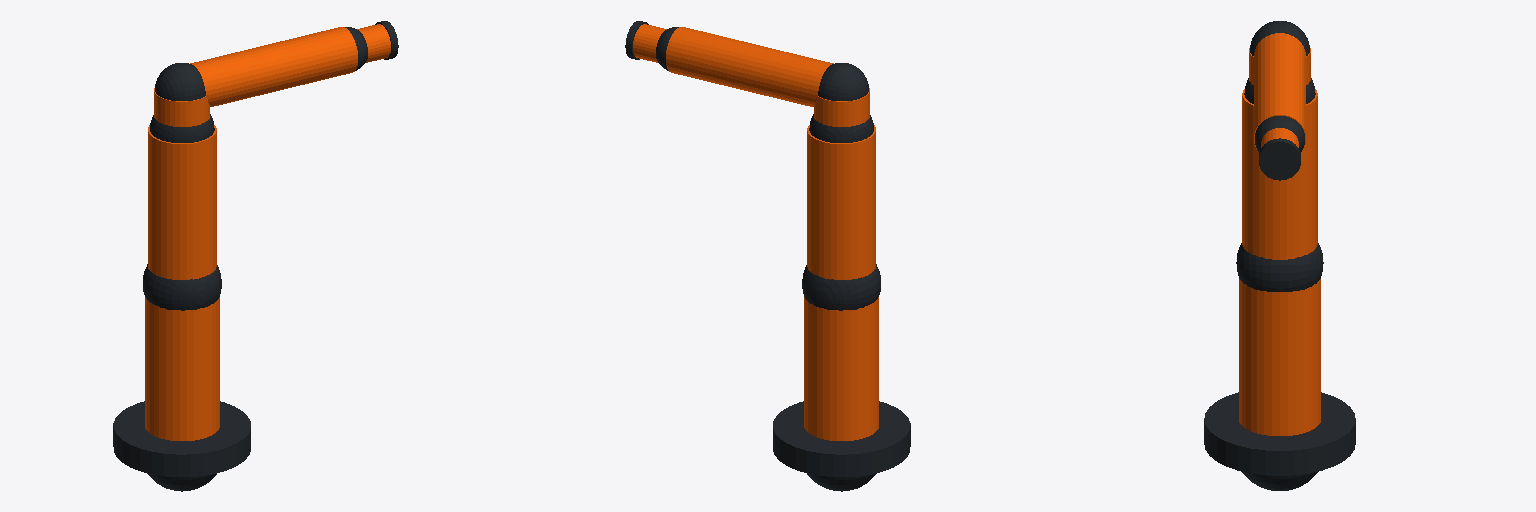
robot.urdf — irb120:
<?xml version="1.0"?>
<!-- Generado por scripts/add_visuals.py  NO EDITAR A MANO -->
<!-- Geometria por primitivas dimensionadas desde la tabla D-H -->
<!-- Grupo VEVAS -->
<robot name="irb120">

  <link name="base_link">
    <visual>
      <origin xyz="0 0 0.02" rpy="0 0 0"/>
      <geometry>
        <cylinder length="0.04" radius="0.11"/>
      </geometry>
      <material name="base_gris">
        <color rgba="0.18 0.20 0.22 1.0"/>
      </material>
    </visual>
  </link>
  <link name="link_1">
    <visual>
      <origin xyz="0 0 0.145000" rpy="0 0 0"/>
      <geometry>
        <cylinder length="0.290000" radius="0.0600"/>
      </geometry>
      <material name="cuerpo">
        <color rgba="0.95 0.42 0.07 1.0"/>
      </material>
    </visual>
    <collision>
      <origin xyz="0 0 0.145000" rpy="0 0 0"/>
      <geometry>
        <cylinder length="0.290000" radius="0.0570"/>
      </geometry>
    </collision>
    <visual>
      <origin xyz="0 0 0" rpy="0 0 0"/>
      <geometry>
        <sphere radius="0.0690"/>
      </geometry>
      <material name="junta">
        <color rgba="0.18 0.20 0.22 1.0"/>
      </material>
    </visual>
  </link>
  <link name="link_2">
    <visual>
      <origin xyz="0.135000 0 0" rpy="0 1.5707963 0"/>
      <geometry>
        <cylinder length="0.270000" radius="0.0550"/>
      </geometry>
      <material name="cuerpo">
        <color rgba="0.95 0.42 0.07 1.0"/>
      </material>
    </visual>
    <collision>
      <origin xyz="0.135000 0 0" rpy="0 1.5707963 0"/>
      <geometry>
        <cylinder length="0.270000" radius="0.0522"/>
      </geometry>
    </collision>
    <visual>
      <origin xyz="0 0 0" rpy="0 0 0"/>
      <geometry>
        <sphere radius="0.0633"/>
      </geometry>
      <material name="junta">
        <color rgba="0.18 0.20 0.22 1.0"/>
      </material>
    </visual>
  </link>
  <link name="link_3">
    <visual>
      <origin xyz="0.035000 0 0" rpy="0 1.5707963 0"/>
      <geometry>
        <cylinder length="0.070000" radius="0.0450"/>
      </geometry>
      <material name="cuerpo">
        <color rgba="0.95 0.42 0.07 1.0"/>
      </material>
    </visual>
    <collision>
      <origin xyz="0.035000 0 0" rpy="0 1.5707963 0"/>
      <geometry>
        <cylinder length="0.070000" radius="0.0427"/>
      </geometry>
    </collision>
    <visual>
      <origin xyz="0 0 0" rpy="0 0 0"/>
      <geometry>
        <sphere radius="0.0517"/>
      </geometry>
      <material name="junta">
        <color rgba="0.18 0.20 0.22 1.0"/>
      </material>
    </visual>
  </link>
  <link name="link_4">
    <visual>
      <origin xyz="0 0 0.151000" rpy="0 0 0"/>
      <geometry>
        <cylinder length="0.302000" radius="0.0380"/>
      </geometry>
      <material name="cuerpo">
        <color rgba="0.95 0.42 0.07 1.0"/>
      </material>
    </visual>
    <collision>
      <origin xyz="0 0 0.151000" rpy="0 0 0"/>
      <geometry>
        <cylinder length="0.302000" radius="0.0361"/>
      </geometry>
    </collision>
    <visual>
      <origin xyz="0 0 0" rpy="0 0 0"/>
      <geometry>
        <sphere radius="0.0437"/>
      </geometry>
      <material name="junta">
        <color rgba="0.18 0.20 0.22 1.0"/>
      </material>
    </visual>
  </link>
  <link name="link_5">
    <visual>
      <origin xyz="0 0 0" rpy="0 0 0"/>
      <geometry>
        <sphere radius="0.0368"/>
      </geometry>
      <material name="junta">
        <color rgba="0.18 0.20 0.22 1.0"/>
      </material>
    </visual>
  </link>
  <link name="link_6">
    <visual>
      <origin xyz="0 0 0.036000" rpy="0 0 0"/>
      <geometry>
        <cylinder length="0.072000" radius="0.0280"/>
      </geometry>
      <material name="cuerpo">
        <color rgba="0.95 0.42 0.07 1.0"/>
      </material>
    </visual>
    <collision>
      <origin xyz="0 0 0.036000" rpy="0 0 0"/>
      <geometry>
        <cylinder length="0.072000" radius="0.0266"/>
      </geometry>
    </collision>
    <visual>
      <origin xyz="0 0 0" rpy="0 0 0"/>
      <geometry>
        <sphere radius="0.0322"/>
      </geometry>
      <material name="junta">
        <color rgba="0.18 0.20 0.22 1.0"/>
      </material>
    </visual>
  </link>
  <link name="tool0">
    <visual>
      <origin xyz="0 0 0" rpy="0 0 0"/>
      <geometry>
        <cylinder length="0.012" radius="0.031"/>
      </geometry>
      <material name="brida">
        <color rgba="0.18 0.20 0.22 1.0"/>
      </material>
    </visual>
  </link>

  <joint name="joint_1" type="revolute">
    <parent link="base_link"/>
    <child  link="link_1"/>
    <origin xyz="0 0 0" rpy="0 0 0"/>
    <axis xyz="0 0 1"/>
    <limit lower="-2.879793" upper="2.879793" effort="42.0" velocity="4.36"/>
  </joint>

  <joint name="joint_2" type="revolute">
    <parent link="link_1"/>
    <child  link="link_2"/>
    <origin xyz="0 0 0.29" rpy="-1.570796327 -1.570796327 0"/>
    <axis xyz="0 0 1"/>
    <limit lower="-1.919862" upper="1.919862" effort="42.0" velocity="4.36"/>
  </joint>

  <joint name="joint_3" type="revolute">
    <parent link="link_2"/>
    <child  link="link_3"/>
    <origin xyz="0.27 0 0" rpy="0 0 0"/>
    <axis xyz="0 0 1"/>
    <limit lower="-1.919862" upper="1.22173" effort="22.0" velocity="5.24"/>
  </joint>

  <joint name="joint_4" type="revolute">
    <parent link="link_3"/>
    <child  link="link_4"/>
    <origin xyz="0.07 0 0" rpy="-1.570796327 0 0"/>
    <axis xyz="0 0 1"/>
    <limit lower="-2.792527" upper="2.792527" effort="5.0" velocity="5.58"/>
  </joint>

  <joint name="joint_5" type="revolute">
    <parent link="link_4"/>
    <child  link="link_5"/>
    <origin xyz="0 0 0.302" rpy="1.570796327 0 0"/>
    <axis xyz="0 0 1"/>
    <limit lower="-2.094395" upper="2.094395" effort="5.0" velocity="5.58"/>
  </joint>

  <joint name="joint_6" type="revolute">
    <parent link="link_5"/>
    <child  link="link_6"/>
    <origin xyz="0 0 0" rpy="-1.570796327 0 0"/>
    <axis xyz="0 0 1"/>
    <limit lower="-6.981317" upper="6.981317" effort="3.0" velocity="7.33"/>
  </joint>

  <joint name="joint_6_tool0" type="fixed">
    <parent link="link_6"/>
    <child  link="tool0"/>
    <origin xyz="0 0 0.072" rpy="0 0 0"/>
  </joint>

</robot>

--- Facts derived from the render (not from the file) ---
The picture shows the robot from 3 angles, left to right: view 1: azimuth 30°, elevation 25°; view 2: azimuth 150°, elevation 25°; view 3: azimuth 270°, elevation 25°; orthographic projection.
Robot: irb120 — 8 links, 7 joints (6 revolute, 1 fixed); root link base_link; default pose: every joint at zero.
Visible links, largest first — view 1: link_2, link_1, link_4, base_link, link_3, link_6; view 2: link_2, link_1, link_4, base_link, link_3, link_6; view 3: link_1, link_2, base_link, link_4, tool0, link_5, link_3.
Link boxes in pixels (x1=…): link_2: x1=143, y1=125, x2=221, y2=310; link_1: x1=145, y1=297, x2=219, y2=491; link_4: x1=155, y1=27, x2=357, y2=106; base_link: x1=113, y1=401, x2=250, y2=476; link_3: x1=150, y1=88, x2=214, y2=142; link_6: x1=357, y1=24, x2=390, y2=62; link_2: x1=802, y1=125, x2=880, y2=310; link_1: x1=804, y1=297, x2=878, y2=491; link_4: x1=666, y1=27, x2=868, y2=106; base_link: x1=773, y1=401, x2=910, y2=476; link_3: x1=809, y1=88, x2=873, y2=142; link_6: x1=633, y1=24, x2=666, y2=62; link_1: x1=1239, y1=279, x2=1320, y2=490; link_2: x1=1236, y1=89, x2=1323, y2=291; base_link: x1=1204, y1=392, x2=1355, y2=475; link_4: x1=1250, y1=21, x2=1309, y2=148; tool0: x1=1259, y1=138, x2=1300, y2=180; link_5: x1=1255, y1=116, x2=1304, y2=152; link_3: x1=1244, y1=48, x2=1315, y2=103.
Size in the robot's own frame: 0.49 by 0.22 by 0.7427 metres.
Geometry: primitives only (box / cylinder / sphere), no mesh files.
